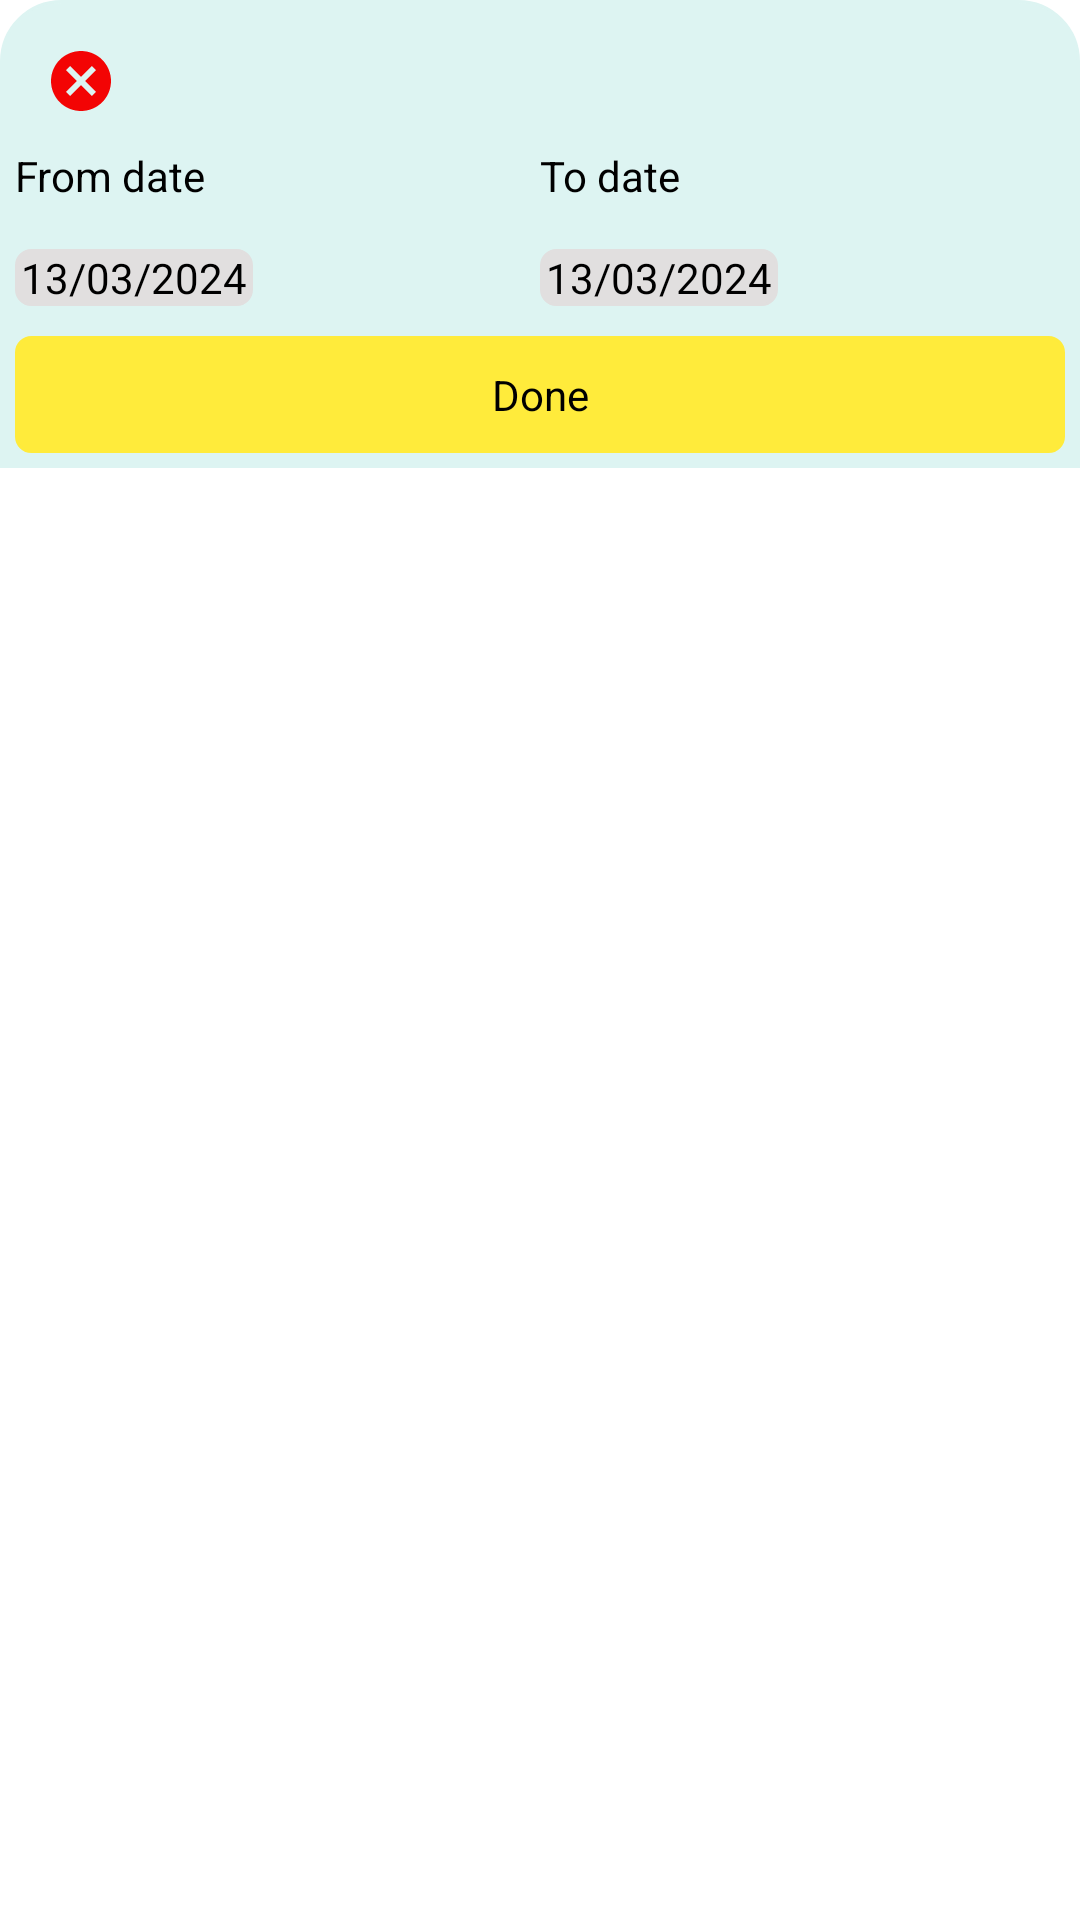

Locate icon controls on the screen. Image size 1080w x 1920h, boxes as (left=x1, top=y1, right=x2, bottom=y2).
cancel: (left=51, top=51, right=111, bottom=111)
